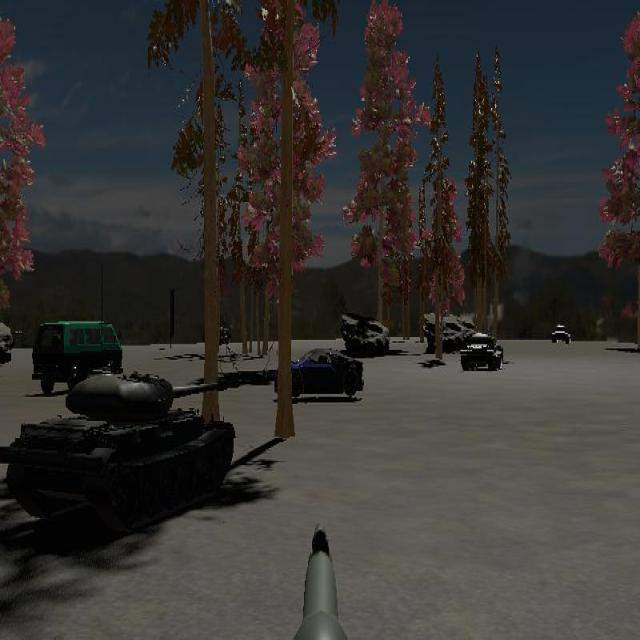Tank: (7, 367, 235, 532), (460, 327, 503, 373)
car: (32, 319, 123, 394), (276, 347, 365, 400)
